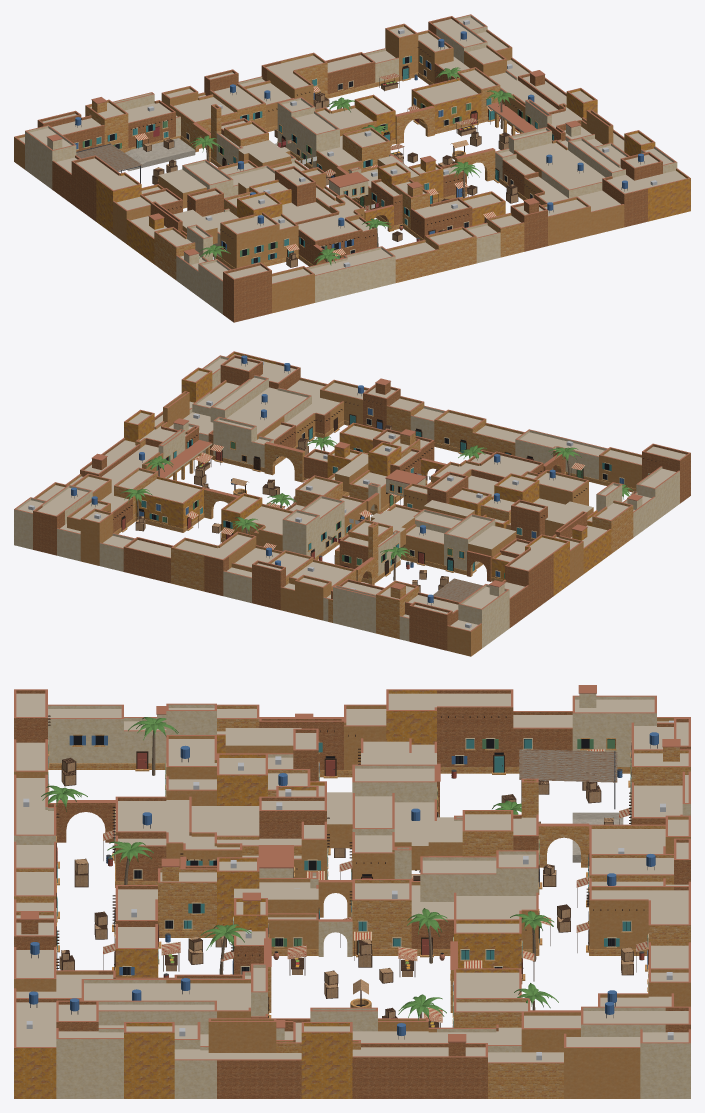
File: kasbah.glb
3 renders of one model, top to bottom at view 1: azimuth 30°, elevation 25°; view 2: azimuth 150°, elevation 25°; view 3: azimuth 270°, elevation 25°, orthographic. The views are drawn at different scales.
Visible parts, largest first — view 1: chunk_1_1, chunk_3_0, chunk_0_0, chunk_0_1, chunk_1_0, chunk_2_0, chunk_0_2, chunk_3_2, chunk_1_3, chunk_2_1, chunk_3_1, chunk_2_3 (+4 smaller); view 2: chunk_1_1, chunk_0_1, chunk_3_0, chunk_0_0, chunk_3_1, chunk_1_3, chunk_2_3, chunk_3_3, chunk_0_2, chunk_1_0, chunk_3_2, chunk_2_1 (+4 smaller); view 3: chunk_1_1, chunk_3_0, chunk_3_2, chunk_3_1, chunk_0_2, chunk_0_1, chunk_0_0, chunk_2_1, chunk_2_0, chunk_1_0, chunk_1_2, chunk_3_3 (+4 smaller).
Part boxes in pixels (<box>): chunk_1_1: <box>157,67,518,267</box>; chunk_3_0: <box>502,130,690,235</box>; chunk_0_0: <box>176,212,357,322</box>; chunk_0_1: <box>96,159,282,279</box>; chunk_1_0: <box>295,179,476,292</box>; chunk_2_0: <box>391,179,590,263</box>; chunk_0_2: <box>25,125,221,221</box>; chunk_3_2: <box>407,29,555,134</box>; chunk_1_3: <box>112,69,266,150</box>; chunk_2_1: <box>342,90,552,203</box>; chunk_3_1: <box>493,85,624,184</box>; chunk_2_3: <box>238,52,375,131</box>; chunk_1_1: <box>120,425,636,584</box>; chunk_0_1: <box>444,473,633,595</box>; chunk_3_0: <box>181,351,343,465</box>; chunk_0_0: <box>521,438,690,537</box>; chunk_3_1: <box>101,391,273,478</box>; chunk_1_3: <box>252,550,384,633</box>; chunk_2_3: <box>123,531,282,603</box>; chunk_3_3: <box>14,485,134,571</box>; chunk_0_2: <box>380,547,553,648</box>; chunk_1_0: <box>390,409,566,499</box>; chunk_3_2: <box>34,453,205,533</box>; chunk_2_1: <box>143,440,401,508</box>; chunk_1_1: <box>41,717,644,1012</box>; chunk_3_0: <box>14,970,250,1098</box>; chunk_3_2: <box>428,968,640,1098</box>; chunk_3_1: <box>200,963,436,1098</box>; chunk_0_2: <box>411,685,656,862</box>; chunk_0_1: <box>217,689,438,817</box>; chunk_0_0: <box>14,689,216,809</box>; chunk_2_1: <box>217,857,447,1027</box>; chunk_2_0: <box>14,858,216,991</box>; chunk_1_0: <box>14,796,242,926</box>; chunk_1_2: <box>420,778,542,914</box>; chunk_3_3: <box>581,968,690,1098</box>.
Size of what is drawn, in the model's own units: 96 by 11.42 by 80.
31 materials, 10 textured.
